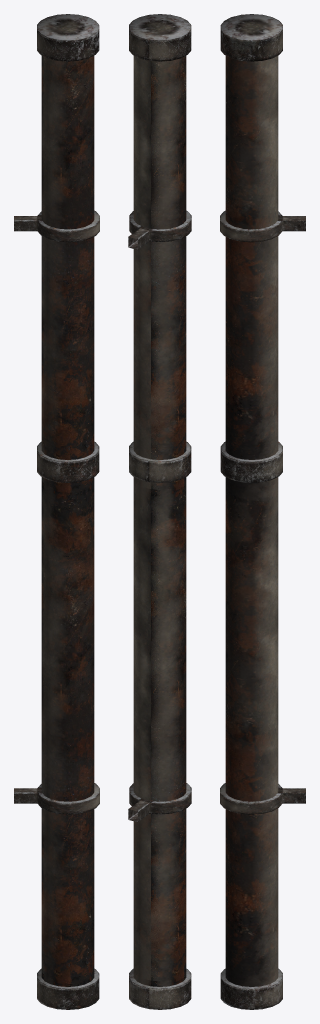
The model's file is SM_Pipe4m.FBX.
The picture shows the model from 3 angles, left to right: view 1: azimuth 90°, elevation 25°; view 2: azimuth 150°, elevation 25°; view 3: azimuth 270°, elevation 25°; orthographic projection.
Visible parts, largest first — view 1: SM_Pipe4m; view 2: SM_Pipe4m; view 3: SM_Pipe4m.
Boxes of the visible parts, x1=… form: SM_Pipe4m: x1=14, y1=14, x2=99, y2=1009; SM_Pipe4m: x1=128, y1=14, x2=191, y2=1009; SM_Pipe4m: x1=220, y1=14, x2=305, y2=1009.
Bounding box in the file's own units: 23.73 × 32.13 × 400.
